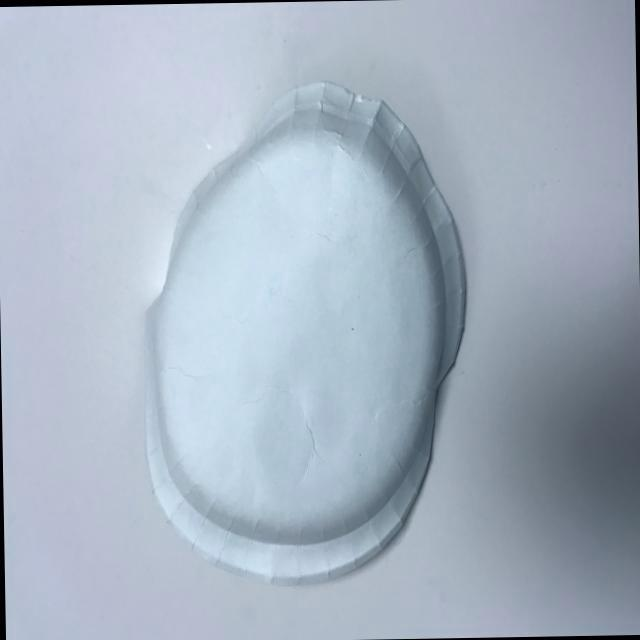paper: (128, 72, 492, 607)
